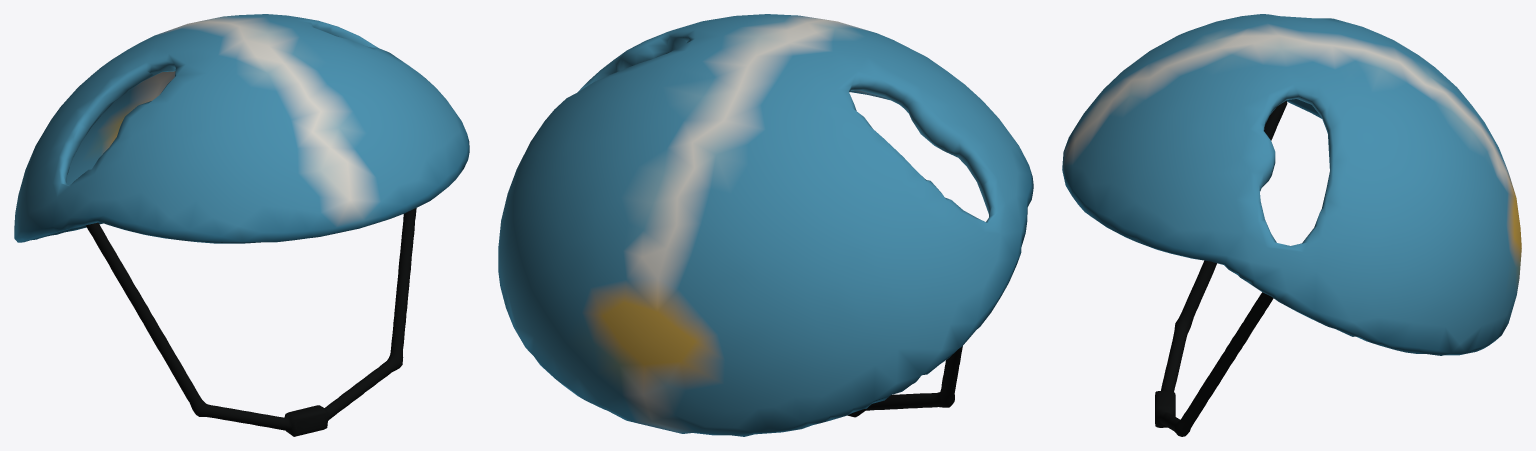
The model's file is mubaohiem.glb.
The picture shows the model from 3 angles, left to right: view 1: azimuth 30°, elevation 25°; view 2: azimuth 150°, elevation 25°; view 3: azimuth 270°, elevation 25°; orthographic projection. The views are drawn at different scales.
Visible parts, largest first — view 1: Mu_BH, Quai_BH; view 2: Mu_BH, Quai_BH; view 3: Mu_BH, Quai_BH.
Part boxes in pixels (bbox=[...]): Mu_BH: bbox=[14, 14, 469, 243]; Quai_BH: bbox=[86, 208, 416, 436]; Mu_BH: bbox=[498, 14, 1033, 436]; Quai_BH: bbox=[847, 346, 962, 417]; Mu_BH: bbox=[1062, 14, 1521, 355]; Quai_BH: bbox=[1155, 100, 1287, 436].
Bounding box in the file's own units: 0.2927 × 0.243 × 0.2665.
